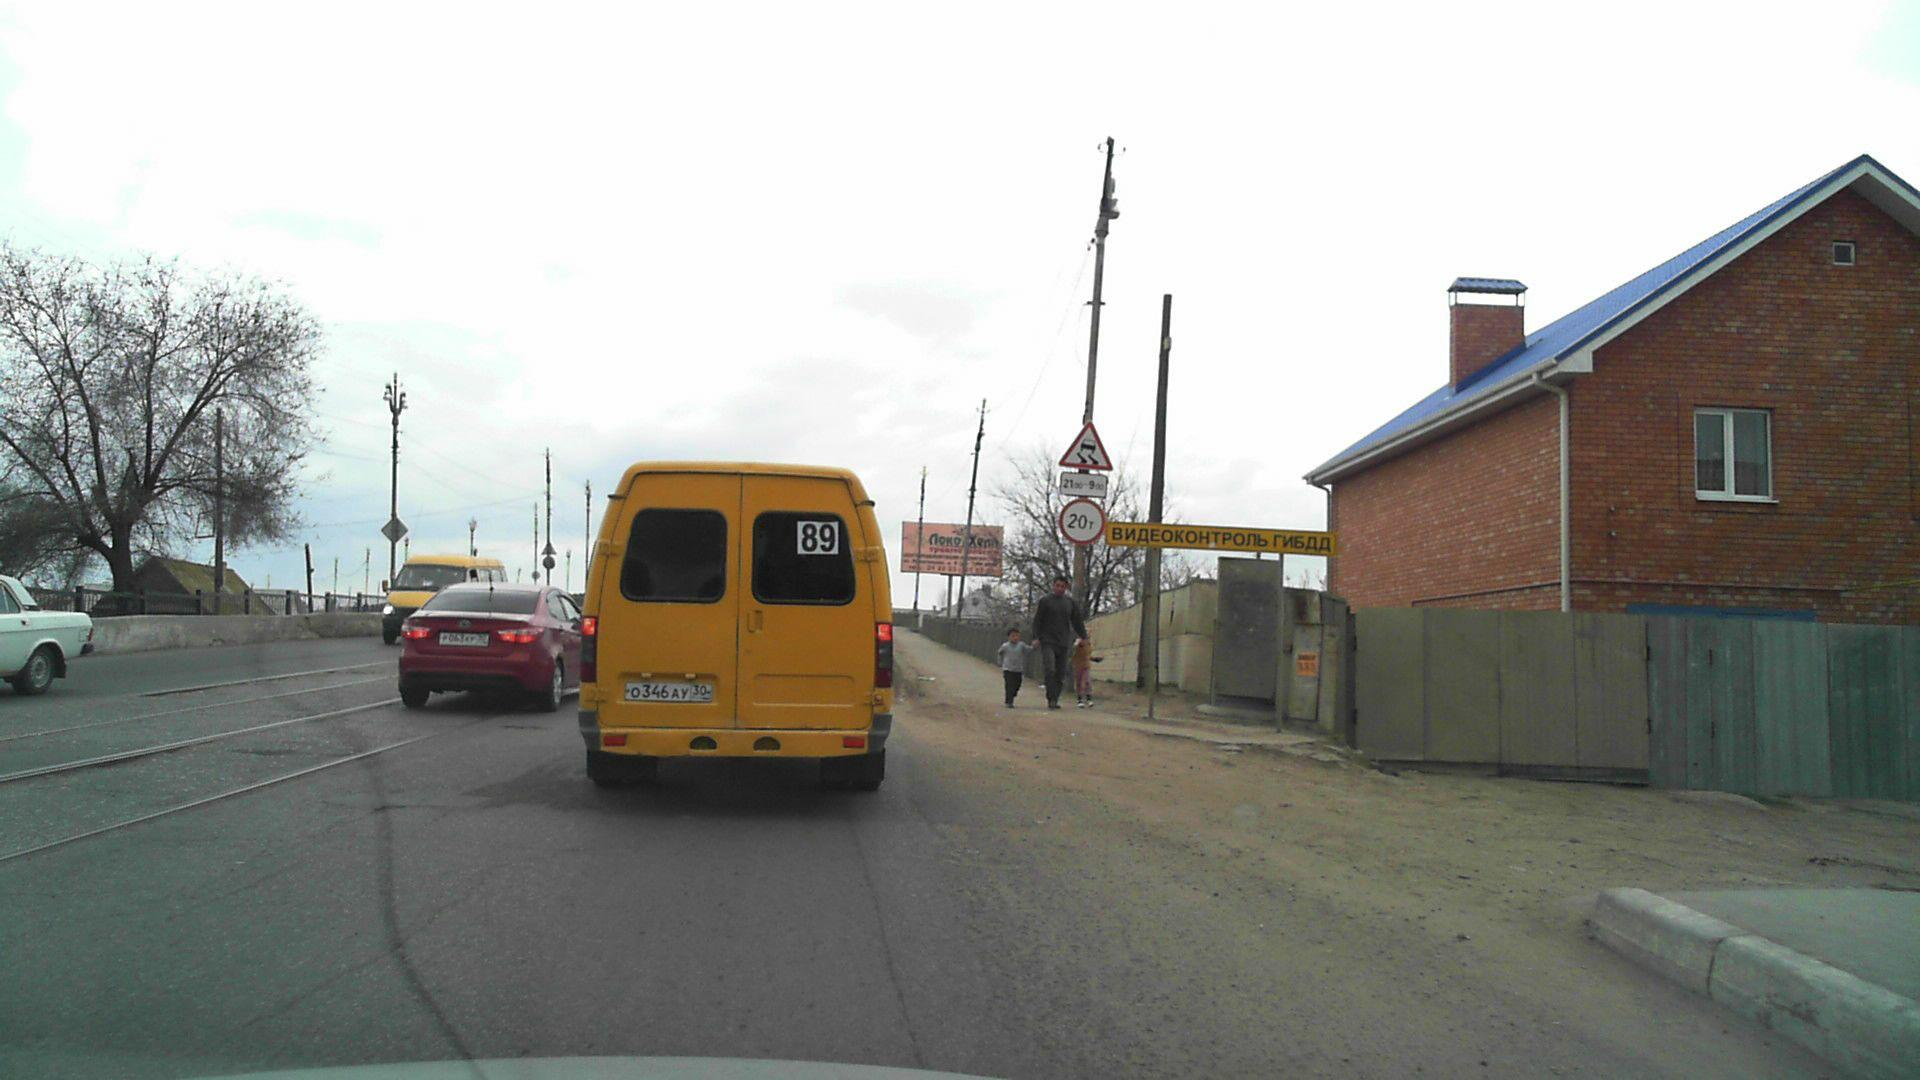1_15: (1055, 421, 1114, 471)
3_11: (1058, 500, 1102, 543)
8_5_4: (1059, 472, 1106, 497)
